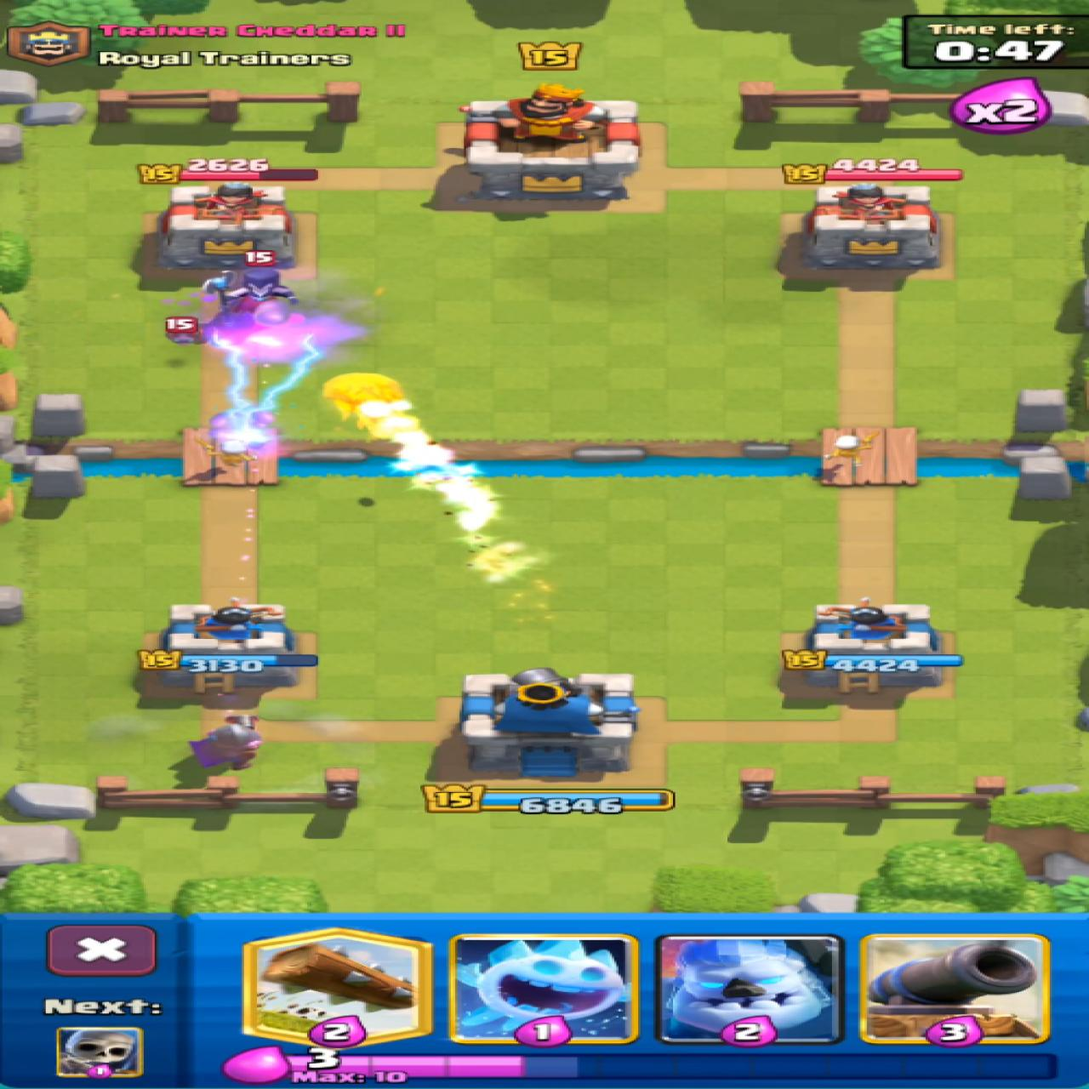Enemy-Bat: (166, 316, 200, 344)
Enemy-KingTower: (462, 84, 638, 202)
Enemy-NightWitch: (205, 251, 296, 314)
Enemy-PrincessTower: (802, 183, 939, 274), (157, 183, 294, 269)
